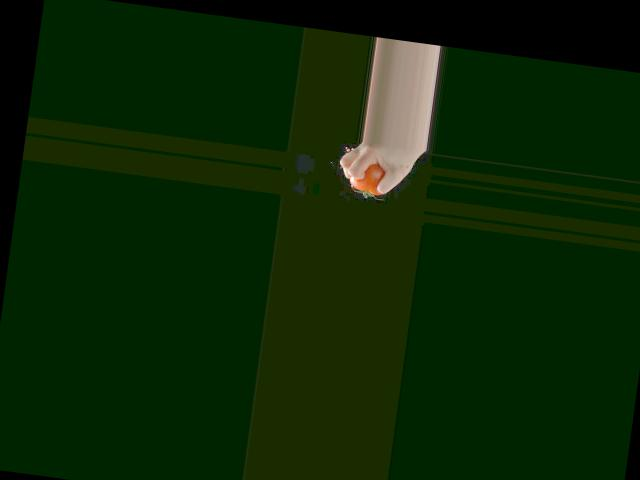tomato: (348, 160, 387, 195)
